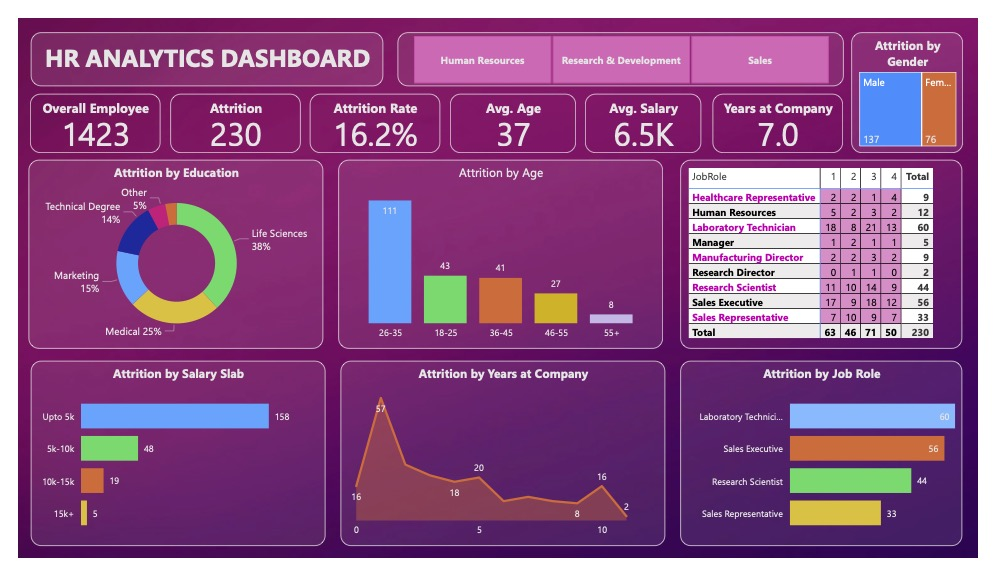

The page's visual inventory and layout, read from the dashboard file:
{"tool":"powerbi","page":{"name":"Dashboard","canvas":[1280,720],"ordinal":0},"visuals":[{"type":"card","title":"Overall Employee","fields":{"Values":["CountNonNull(HR Data.EmpID)"]},"box":[15.7,101.4,174.3,78.6],"z":0},{"type":"card","title":"Attrition","fields":{"Values":["Sum(HR Data.Attrition Count)"]},"box":[202.9,101.4,174.3,78.6],"z":1000},{"type":"card","title":"Attrition Rate","fields":{"Values":["HR Data.Attrition Rate"]},"box":[388.6,101.4,174.3,78.6],"z":2000},{"type":"card","title":"Avg. Age","fields":{"Values":["Avg(HR Data.Age)"]},"box":[575.7,101.4,168.6,78.6],"z":3000},{"type":"card","title":"Avg. Salary","fields":{"Values":["Avg(HR Data.MonthlyIncome)"]},"box":[755.7,101.4,155.7,78.6],"z":4000},{"type":"card","title":"Years at Company","fields":{"Values":["Avg(HR Data.YearsAtCompany)"]},"box":[925.7,101.4,174.3,78.6],"z":5000},{"type":"donutChart","title":"Attrition by Education","fields":{"Category":["HR Data.EducationField"],"Y":["Sum(HR Data.Attrition Count)"]},"box":[14.3,188.6,392.9,252.9],"z":6000},{"type":"columnChart","title":"Attrition by Age","fields":{"Category":["HR Data.AgeGroup"],"Y":["Sum(HR Data.Attrition Count)"]},"box":[427.1,188.6,432.9,252.9],"z":7000},{"type":"pivotTable","fields":{"Rows":["HR Data.JobRole"],"Columns":["HR Data.JobSatisfaction"],"Values":["Sum(HR Data.Attrition Count)"]},"box":[882.9,188.6,375.7,252.9],"z":8000},{"type":"barChart","title":"Attrition by Salary Slab","fields":{"Category":["HR Data.SalarySlab"],"Y":["Sum(HR Data.Attrition Count)"]},"box":[17.1,457.1,392.9,247.1],"z":9000},{"type":"barChart","title":"Attrition by Job Role","fields":{"Category":["HR Data.JobRole"],"Y":["Sum(HR Data.Attrition Count)"]},"box":[882.9,457.1,375.7,247.1],"z":10000},{"type":"areaChart","title":"Attrition by Years at Company","fields":{"Category":["HR Data.YearsAtCompany"],"Y":["Sum(HR Data.Attrition Count)"]},"box":[430,457.1,432.9,247.1],"z":11000},{"type":"treemap","title":"Attrition by Gender","fields":{"Group":["HR Data.Gender"],"Values":["Sum(HR Data.Attrition Count)"]},"box":[1111.4,18.6,148.6,161.4],"z":12000},{"type":"slicer","fields":{"Values":["HR Data.Department"]},"box":[505.7,18.6,595.7,72.9],"z":13000},{"type":"textbox","box":[17.1,18.6,470,72.9],"z":14000}]}

Visuals, with their boxes in screenshot pixels (x1, y1, x2, y2), scaled from the page's 1280x720 canvas onto the 996x576 screenshot:
"Overall Employee" card: (12,81,148,144)
"Attrition" card: (158,81,294,144)
"Attrition Rate" card: (302,81,438,144)
"Avg. Age" card: (448,81,579,144)
"Avg. Salary" card: (588,81,709,144)
"Years at Company" card: (720,81,856,144)
"Attrition by Education" donutChart: (11,151,317,353)
"Attrition by Age" columnChart: (332,151,669,353)
pivotTable - HR Data.JobRole x HR Data.JobSatisfaction: (687,151,979,353)
"Attrition by Salary Slab" barChart: (13,366,319,563)
"Attrition by Job Role" barChart: (687,366,979,563)
"Attrition by Years at Company" areaChart: (335,366,671,563)
"Attrition by Gender" treemap: (865,15,980,144)
slicer - HR Data.Department: (393,15,857,73)
textbox: (13,15,379,73)
